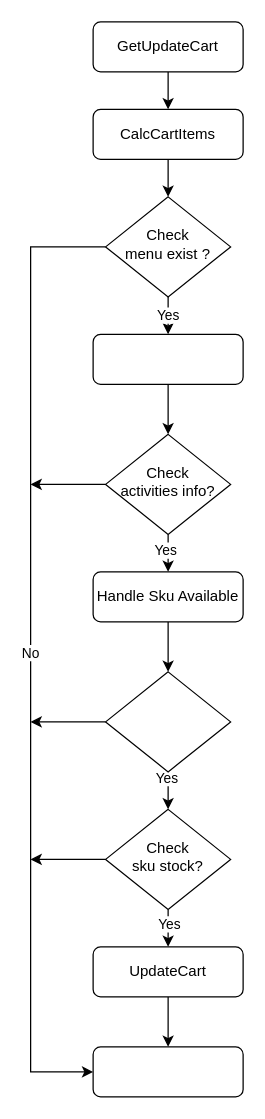
Some shapes in this 265 by 1119 pixel diagram are drawn without their labels. The shapes that lost their labels are listed below. From the top down, each one's centre as x and y in pixels, then its label:
At point 167,358: "Handle Activities".
At point 167,721: "Check sku status?".
At point 167,1071: "End".
